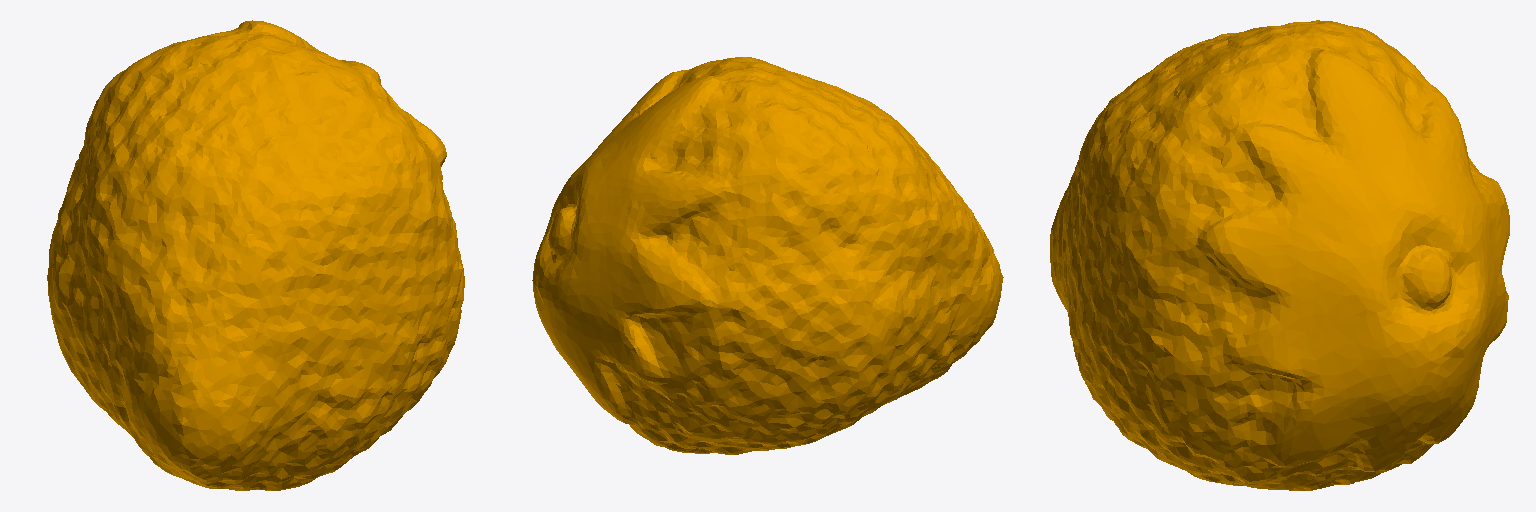
URDF robot description (012_strawberry):
<?xml version="1.0"?>
<robot name="012_strawberry">
  <link name="base_link">
    <visual>
      <geometry>
        <mesh filename="../../../meshes/ycb_video_models/centered/012_strawberry/textured.obj" />
      </geometry>
    </visual>
  </link>
</robot>

--- Facts derived from the render (not from the file) ---
Views: 3 orthographic renders of the robot side by side, from view 1: azimuth 30°, elevation 25°; view 2: azimuth 150°, elevation 25°; view 3: azimuth 270°, elevation 25°.
Model 012_strawberry with 1 links and 0 joints (none), rooted at base_link, posed all joints at 0.
Links seen in each view (by area): view 1: base_link; view 2: base_link; view 3: base_link.
Boxes of the visible links, box(x1,y1,x2,y2) form: base_link: box(47, 20, 464, 490); base_link: box(532, 57, 1003, 454); base_link: box(1050, 20, 1509, 490).
Size in the robot's own frame: 0.0452 by 0.0453 by 0.0457 metres.
1 mesh visuals loaded from 1 distinct referenced files (1 OBJ).